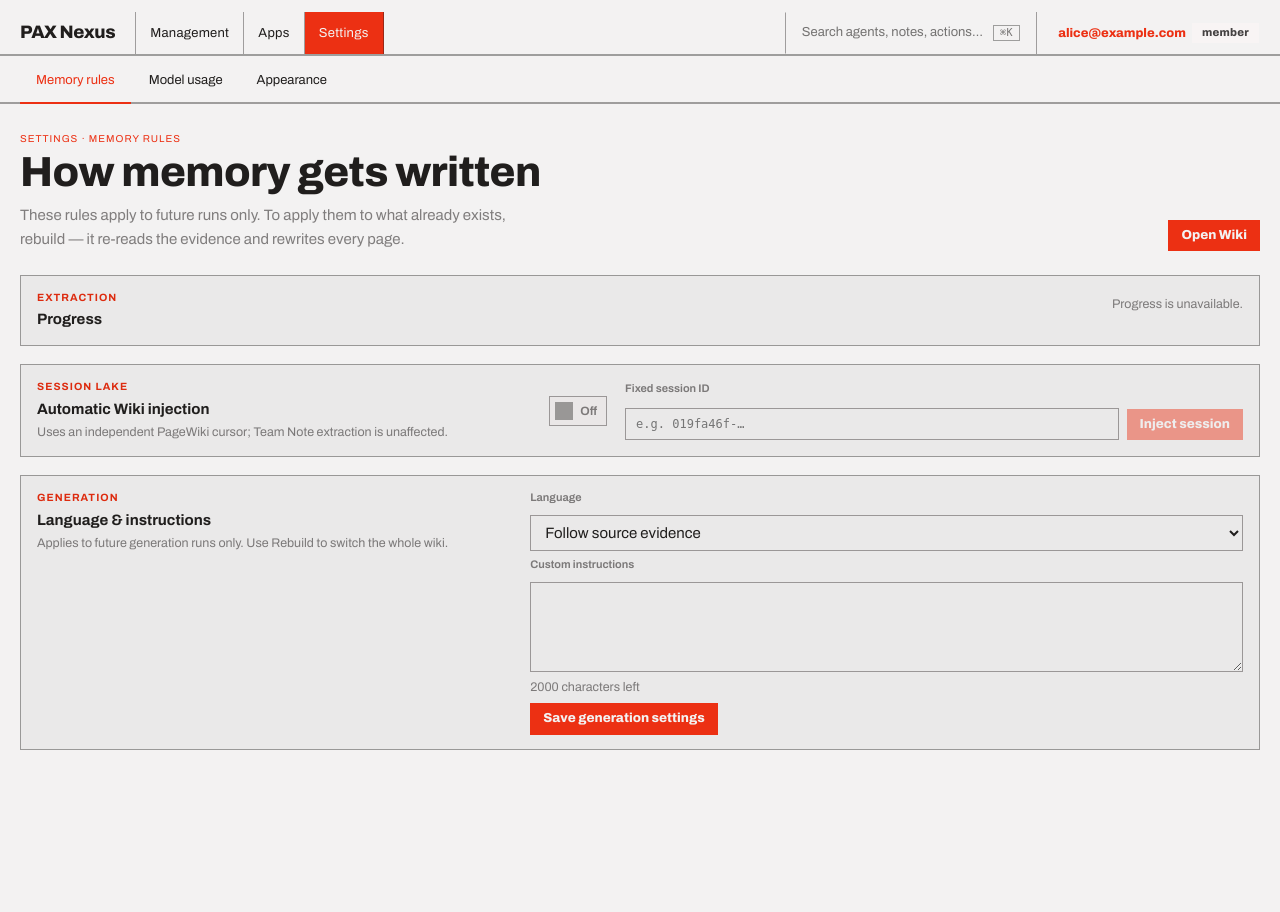
Test case: memory rules page ingestion controls › toggles auto injection and manually injects a fixed session
Click the switch labelled "Off" at (578, 411), box [549,396,607,426]
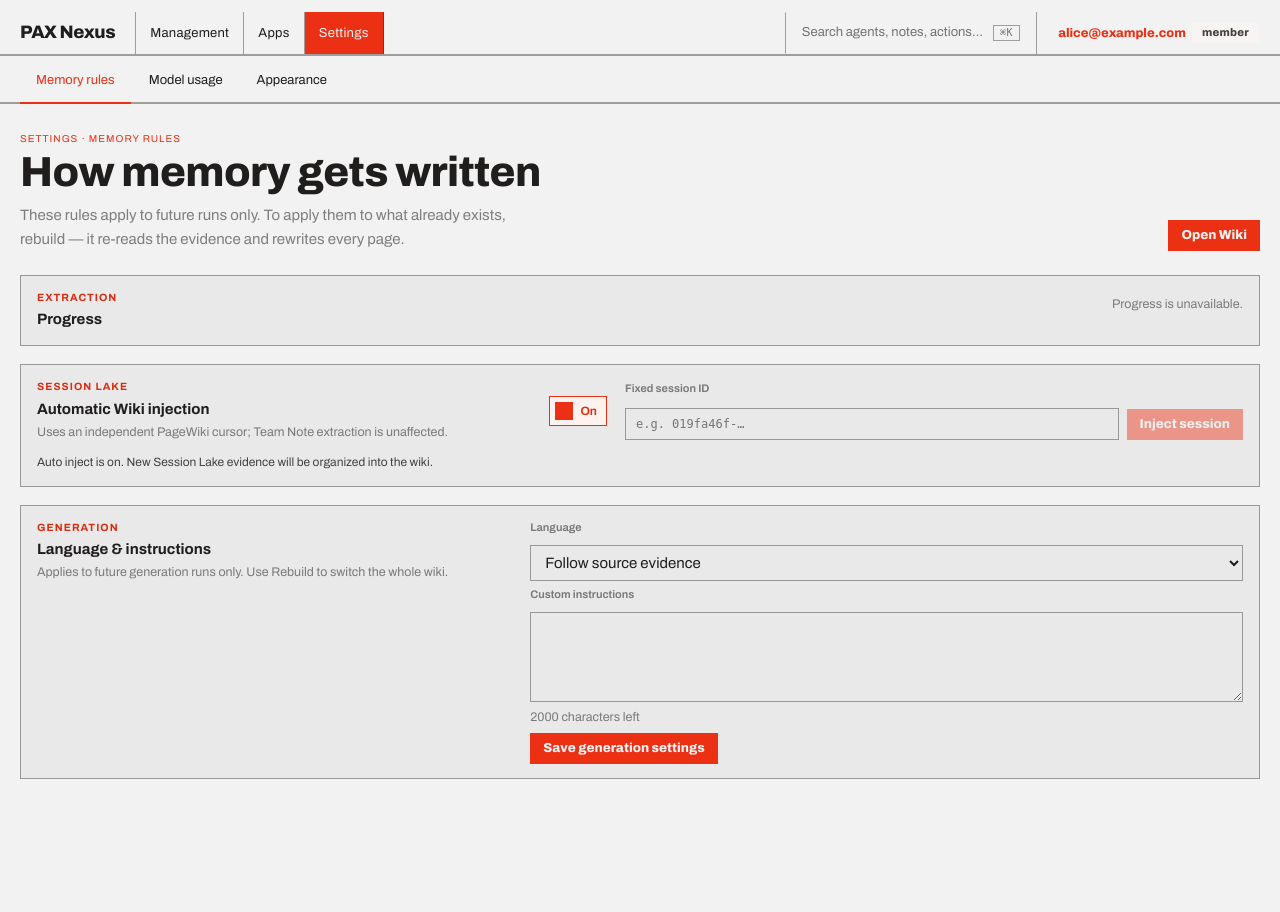
expect the switch named "Off" is checked: met, box [549,396,607,426]
Type "runtime-session" into the field labelled "Fixed session ID" at (872, 424), box [625,408,1119,440]
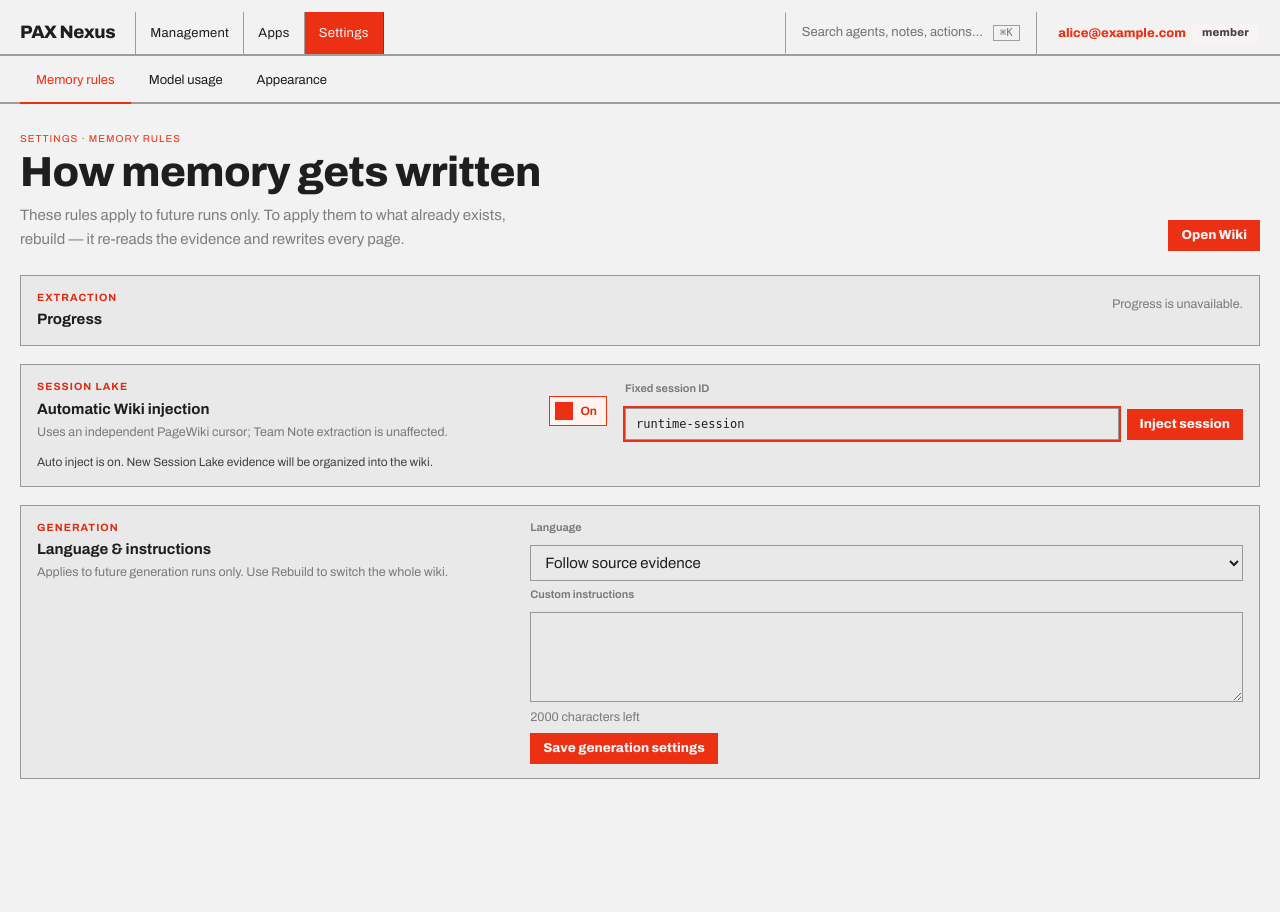
Click the button "Inject session" at (1185, 425), box [1126,409,1243,440]
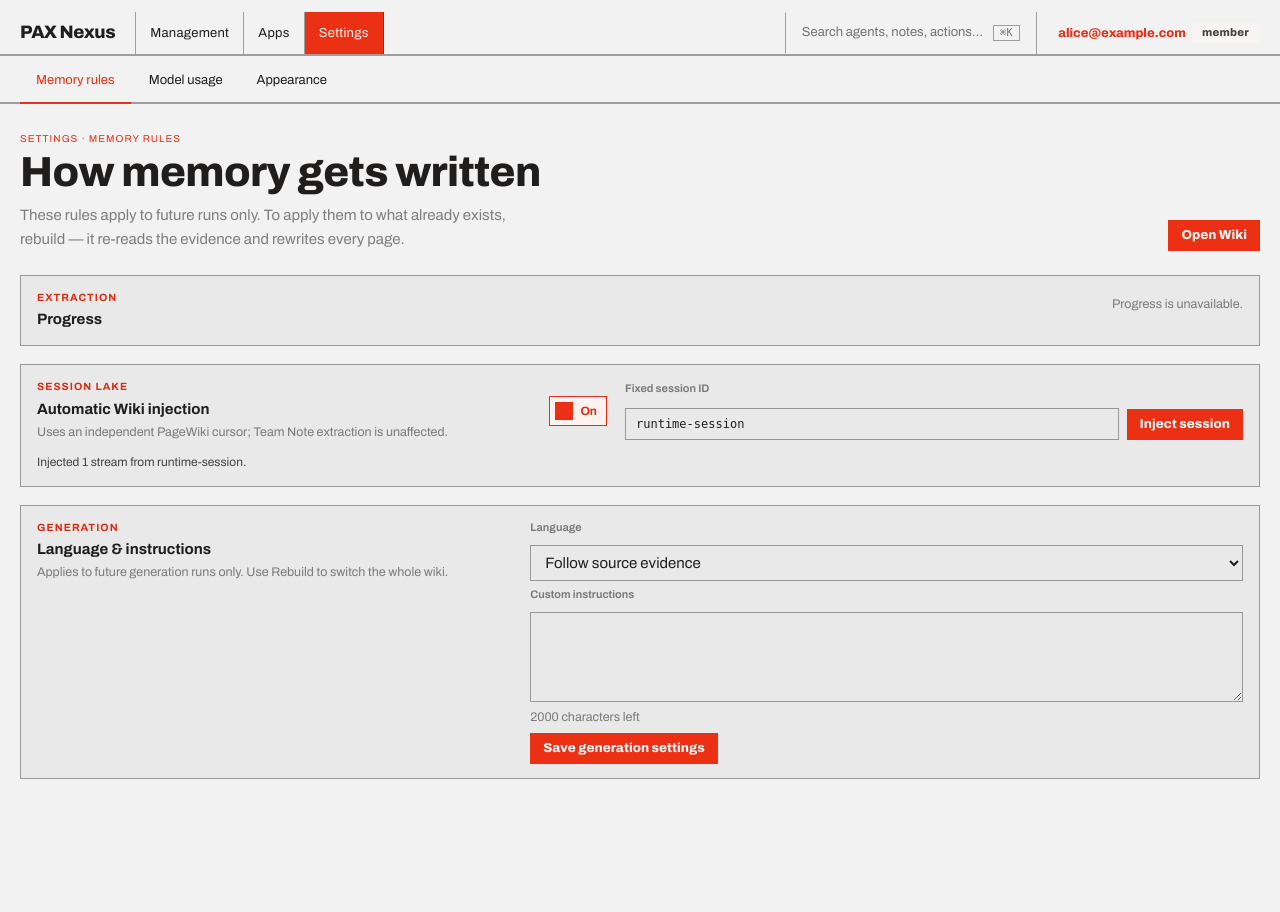
expect the text "Injected 1 stream from runtime-session." is shown: met, box [37,455,246,469]
